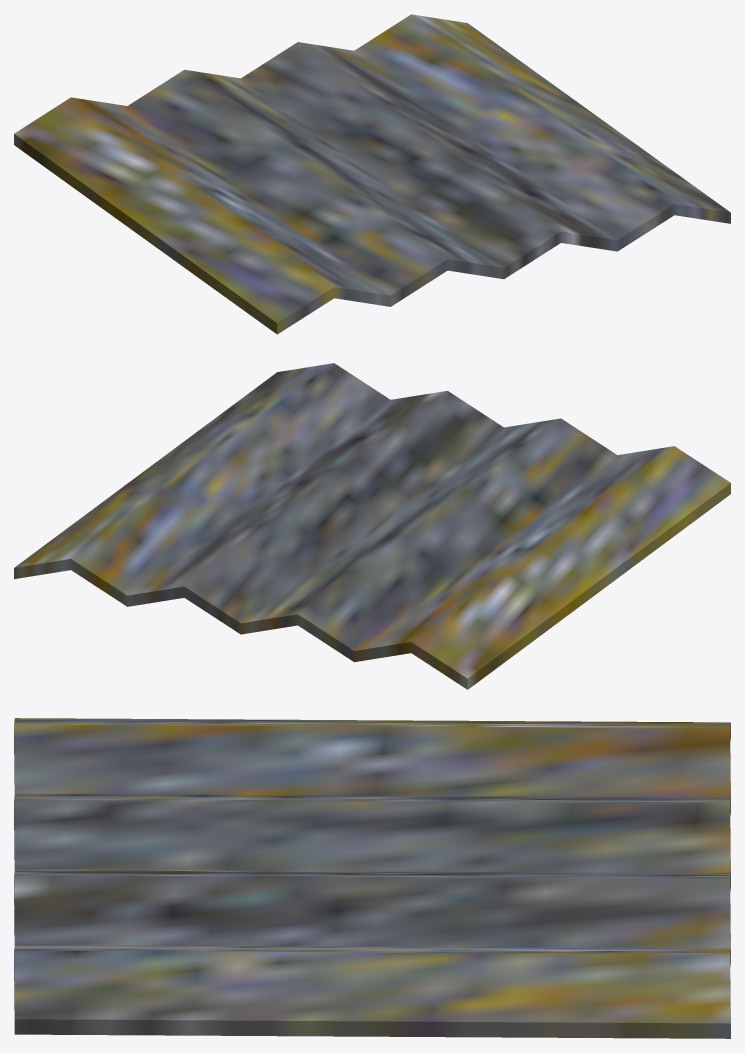
The model's file is metal_plane.fbx.
3 views of the same model, one above another, from view 1: azimuth 30°, elevation 25°; view 2: azimuth 150°, elevation 25°; view 3: azimuth 270°, elevation 25° (orthographic). The views are drawn at different scales.
Parts seen in each view (by area): view 1: metal_plane; view 2: metal_plane; view 3: metal_plane.
Part boxes in pixels (x1,y1,x2,y2): metal_plane: [14, 14, 730, 334]; metal_plane: [14, 363, 730, 689]; metal_plane: [14, 718, 730, 1038].
Bounding box in the file's own units: 117 × 9.18 × 118.
Materials: 1 (1 with a texture image).
